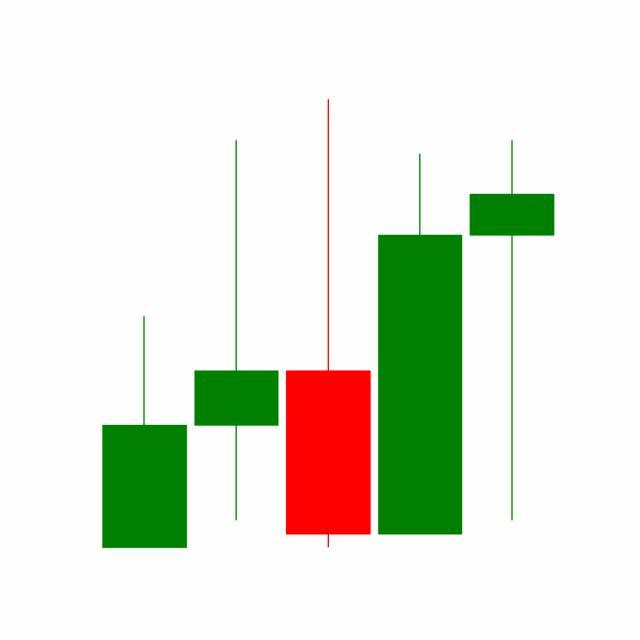Spinning Top: (466, 137, 559, 526)
